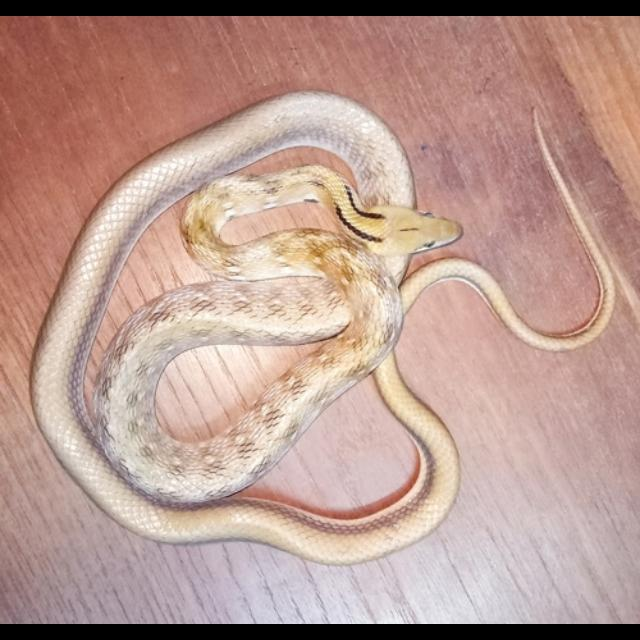snake: (26, 90, 622, 564)
